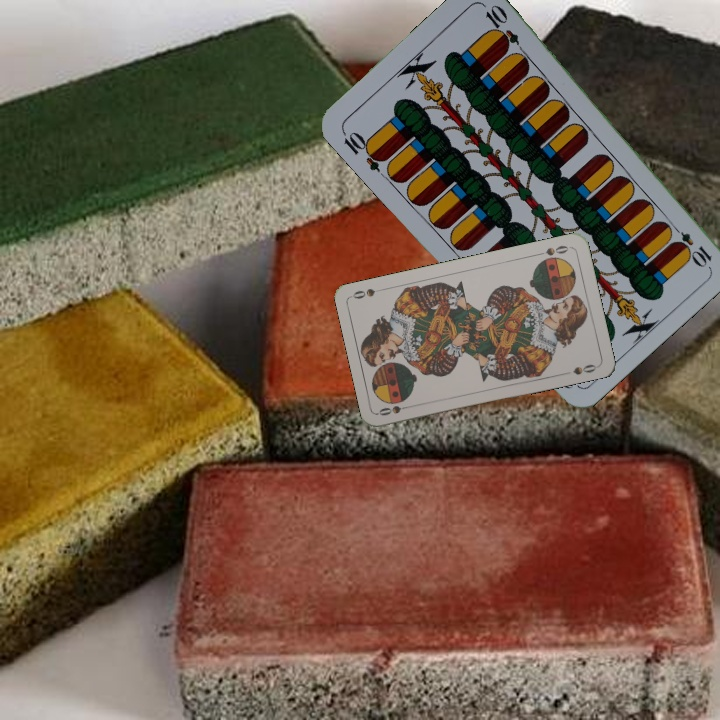E10: (338, 126, 389, 174), (666, 220, 715, 269)
SO: (532, 241, 573, 258), (375, 401, 415, 418)
